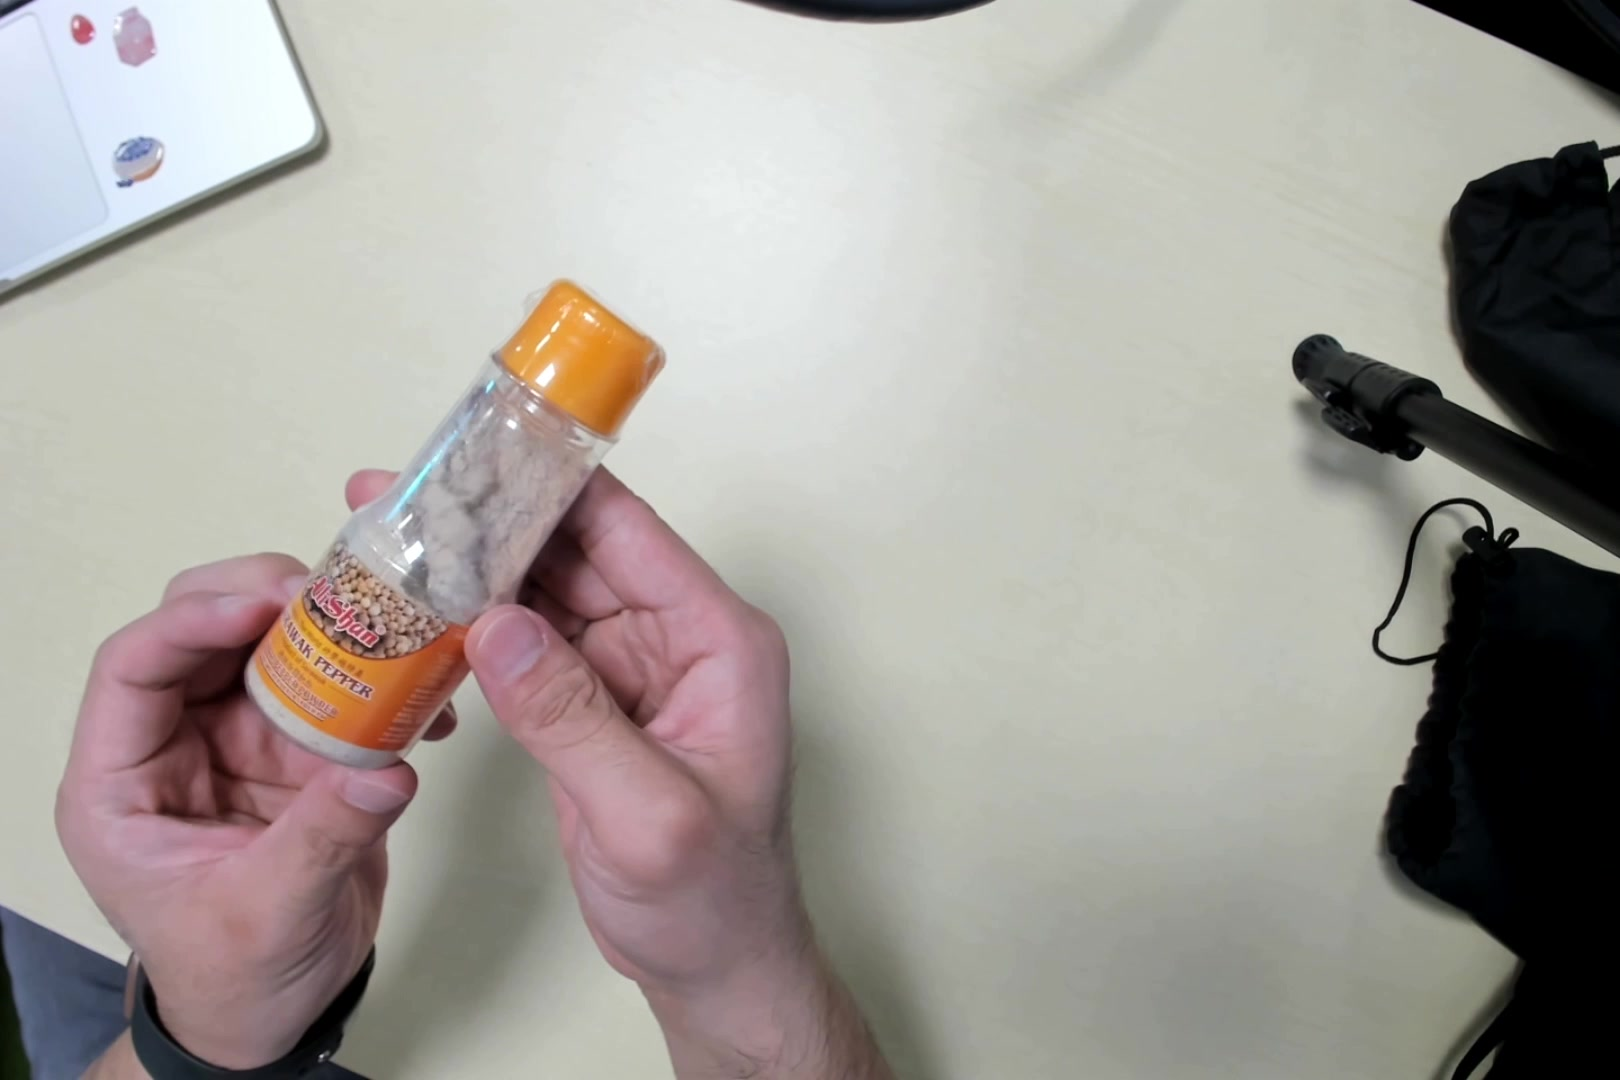HeabsSpicesPepper_0-99g_NonHalal_NonHealthy: (242, 270, 663, 788)
